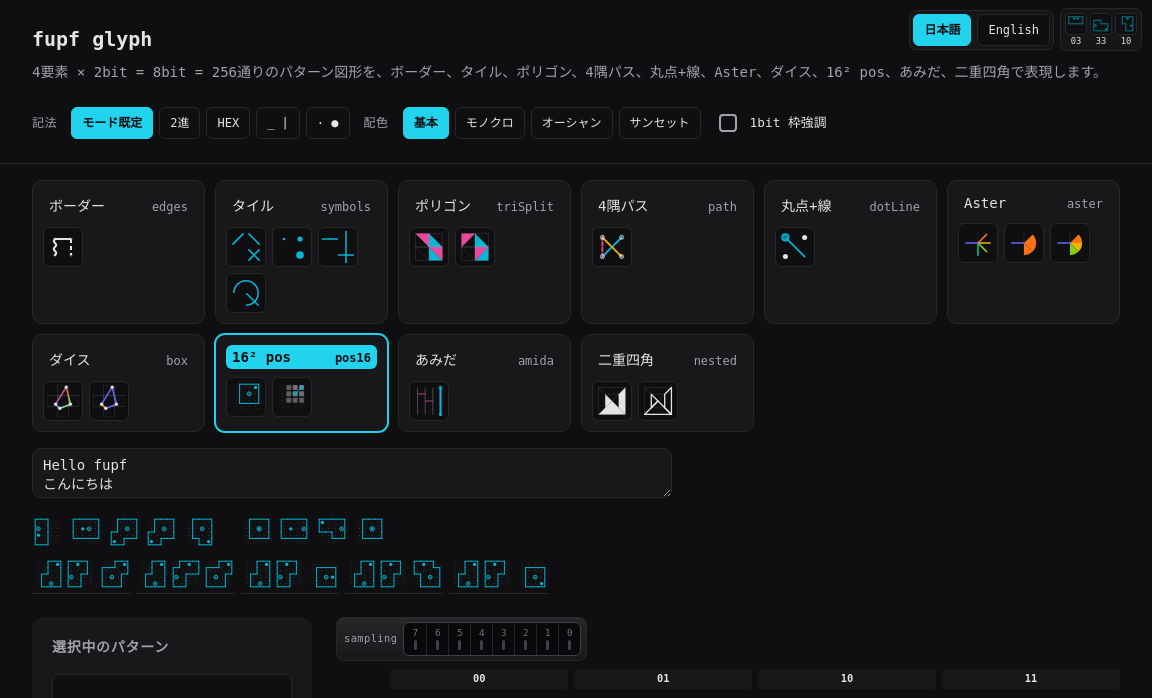
Scenario: App › switches to amida mode
This screenshot has width=1152, height=698.
Click the button "あみだ amida" at point(484, 359), box [409,345,560,373]
(page scrolled)
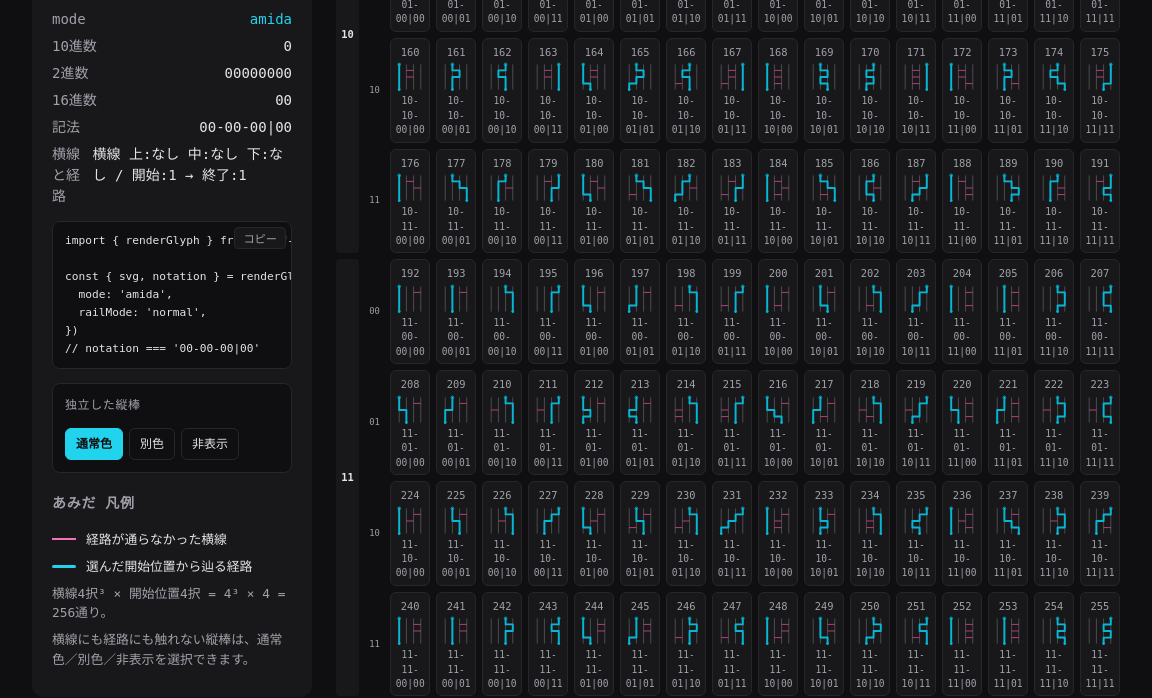
expect the heading "あみだ 凡例" is shown: met, box [52,494,135,510]
